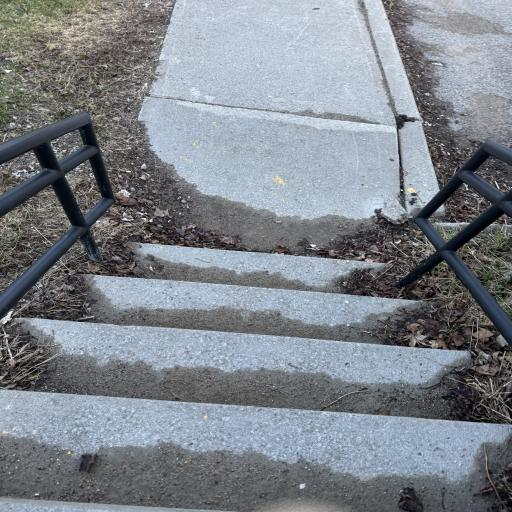Stairs: (0, 244, 512, 512), (21, 318, 471, 418), (130, 242, 389, 292), (0, 497, 219, 512)
